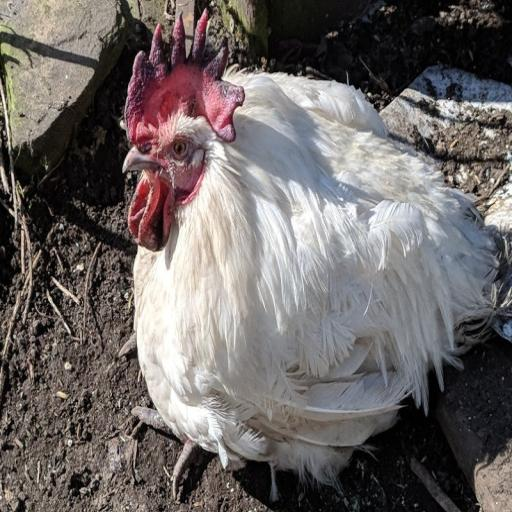disease: (124, 12, 243, 118)
